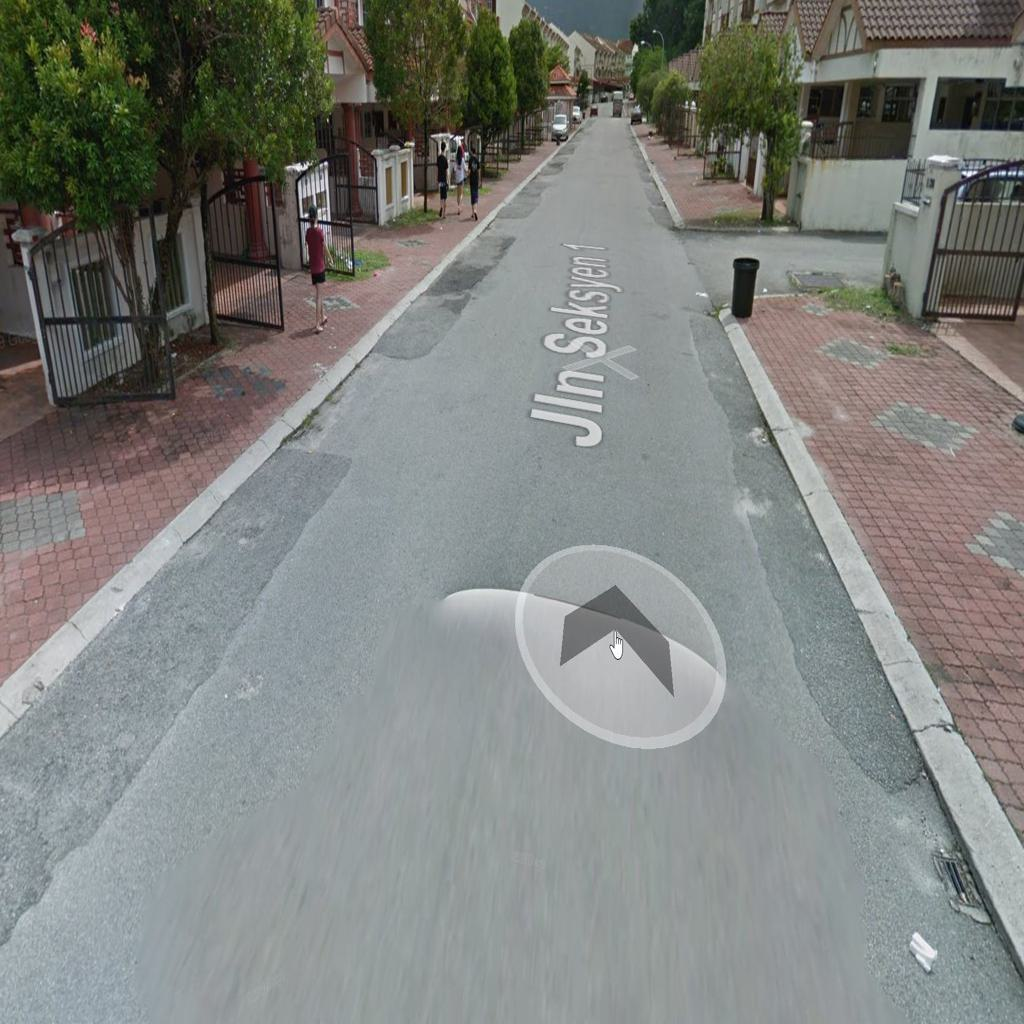Junction: (608, 168, 887, 344)
